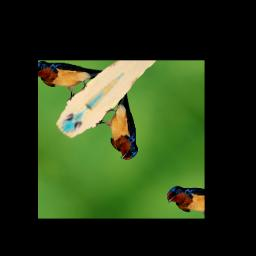Swallow: (87, 91, 165, 165)
